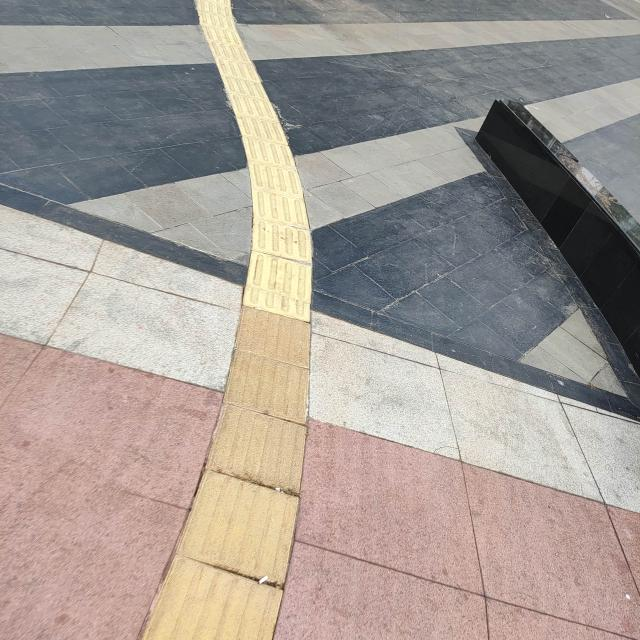lurus: (205, 133, 318, 640)
